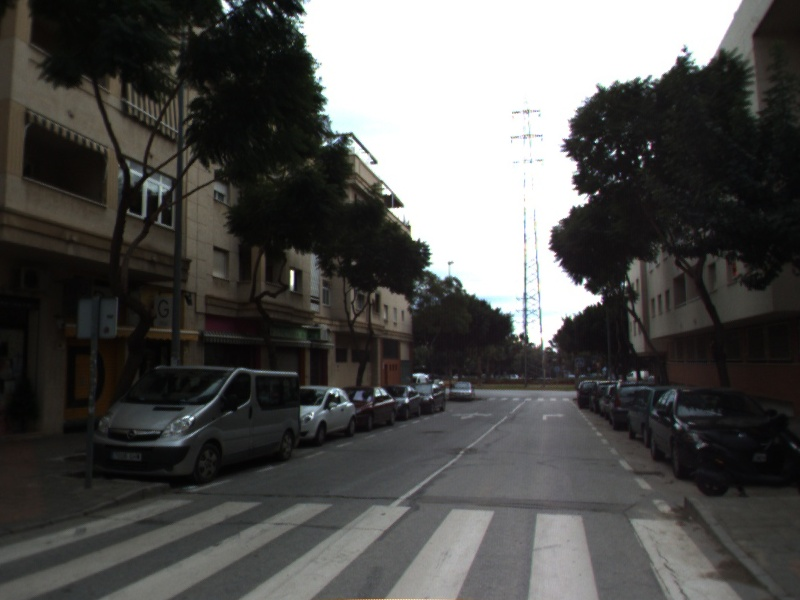RIGHT: (541, 411, 567, 422)
